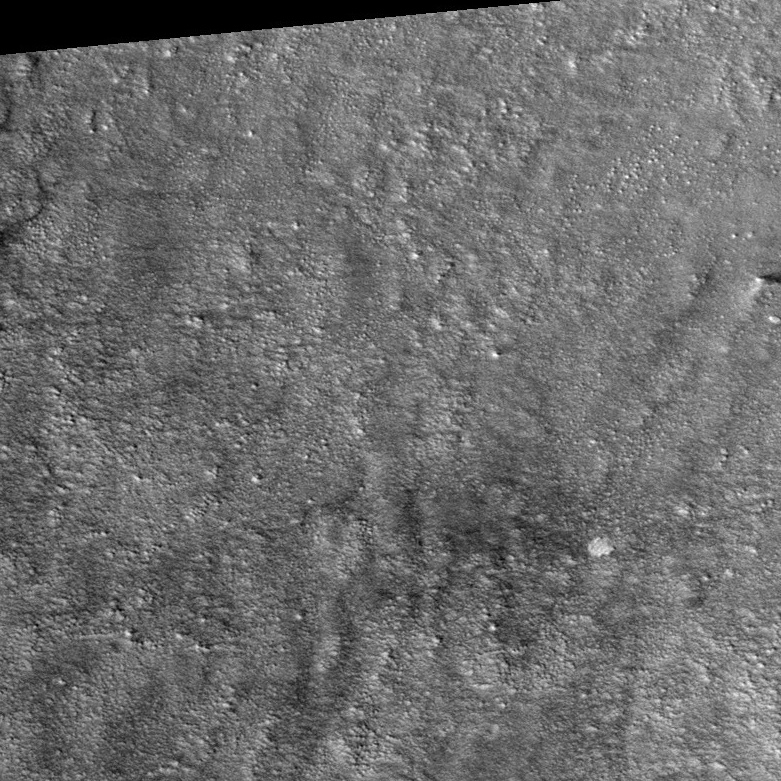dust_devil: (745, 272, 781, 300)
